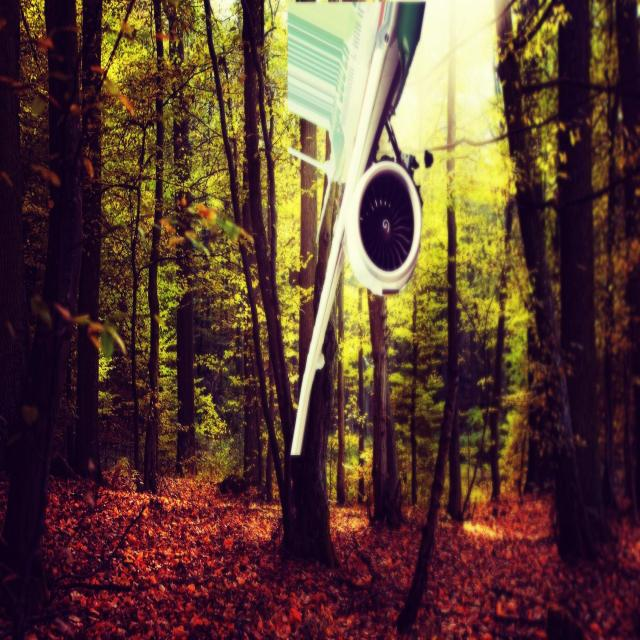airplane: (286, 2, 424, 456)
